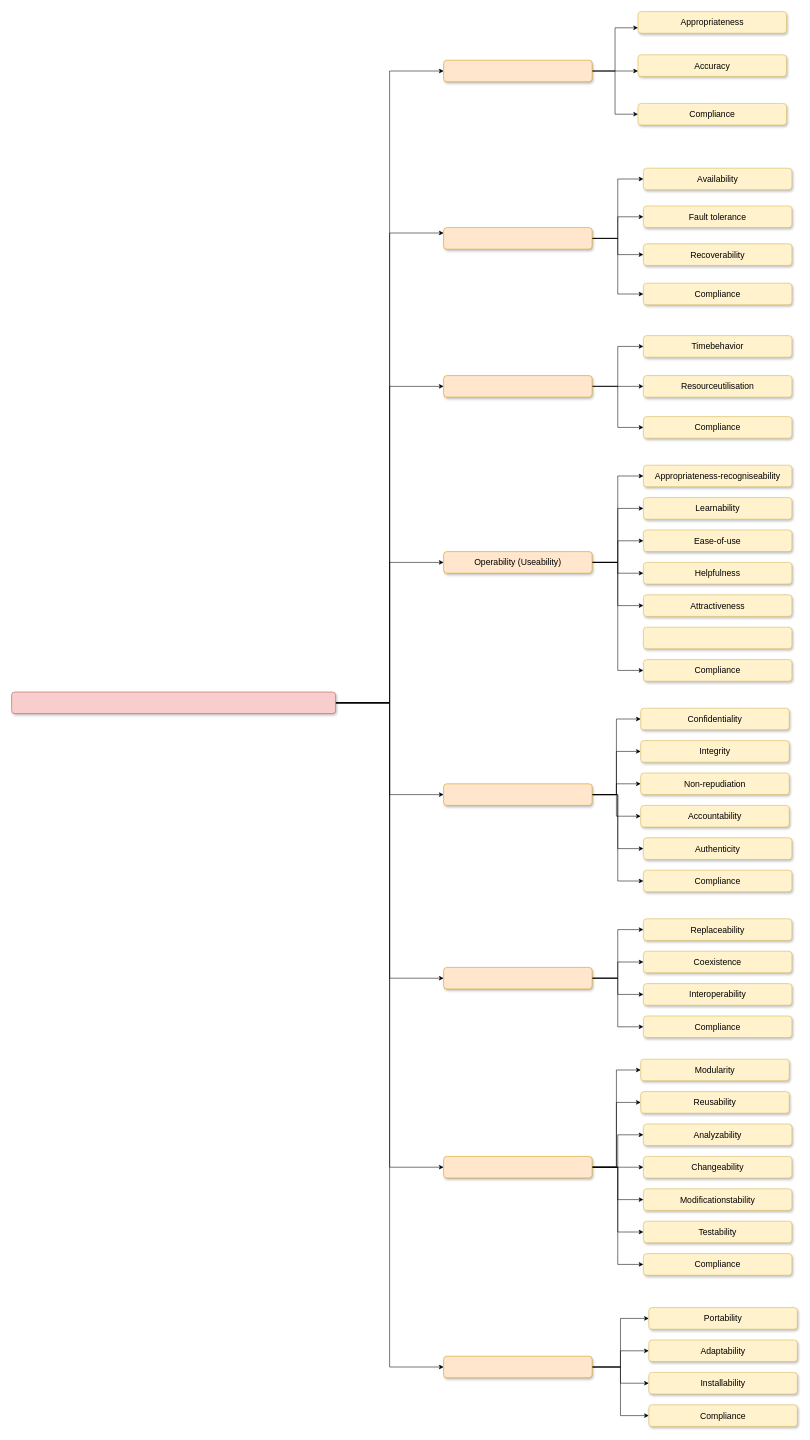
Image size: 810x1440. Some labels were removed from this diagram. The shapes that lost their labels are listed below. From the top down, each one's centre as x and y in pixels, then its label:
[518,72]: Functional Suitability
[518,239]: Reliability
[518,387]: Performance efficiency
[718,639]: Technical-accessibility
[174,703]: Software Product Quality ISO 25010
[518,795]: Security
[518,979]: Compatibility
[518,1168]: Maintainability
[518,1368]: Transferability
